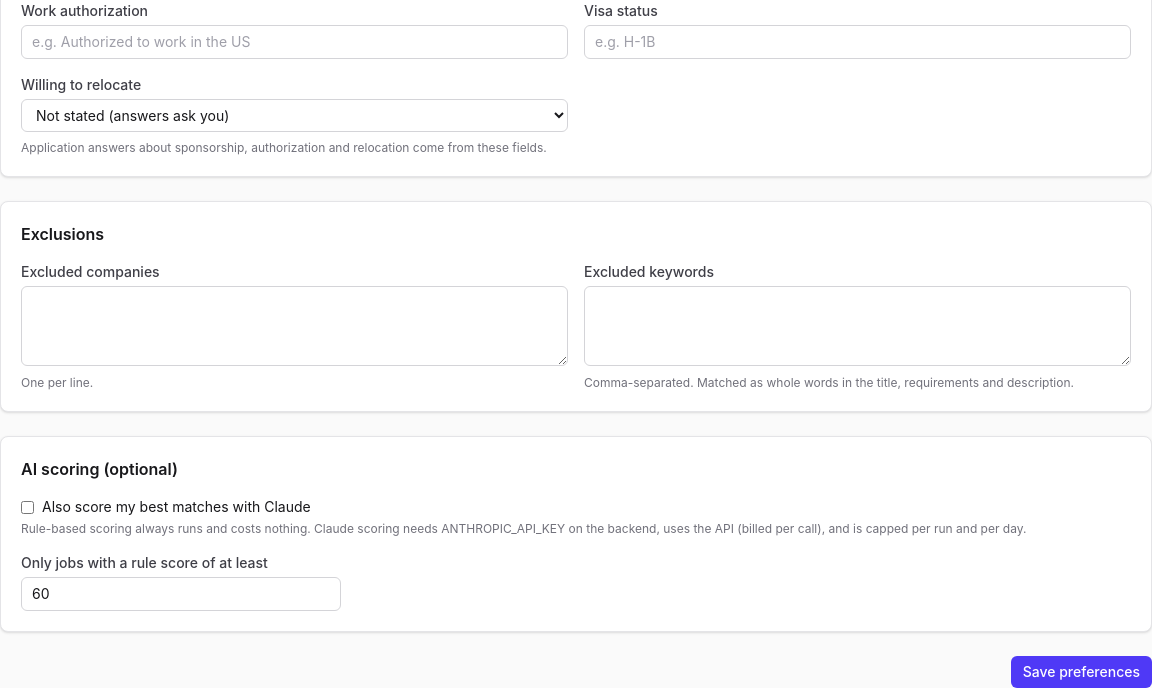
Scenario: SettingsForm › blocks a minimum above the target and reports no-op saves
(page scrolled)
Click the button "Save preferences".
click(1081, 672)  # box x1=1011 y1=656 x2=1151 y2=687
(page scrolled)
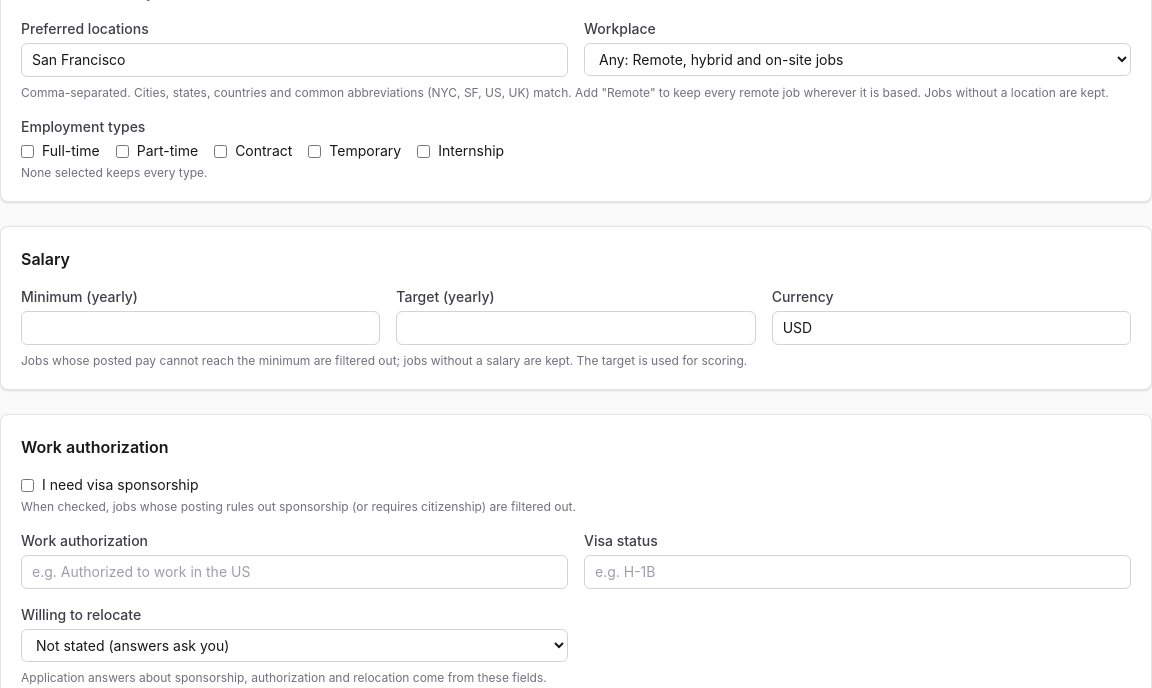
Type "200000" into the number field labelled "Minimum (yearly)".
click(201, 328); type("200000")  # box x1=21 y1=311 x2=380 y2=345
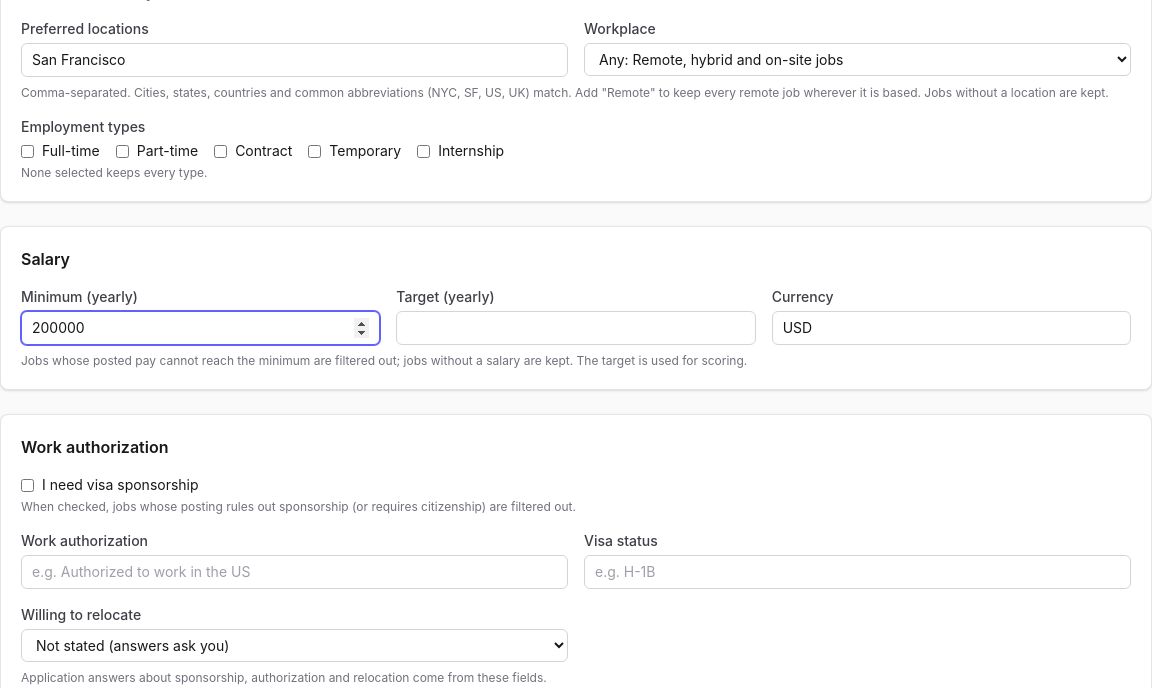
Type "150000" into the number field labelled "Target (yearly)".
click(576, 328); type("150000")  # box x1=396 y1=311 x2=756 y2=345
(page scrolled)
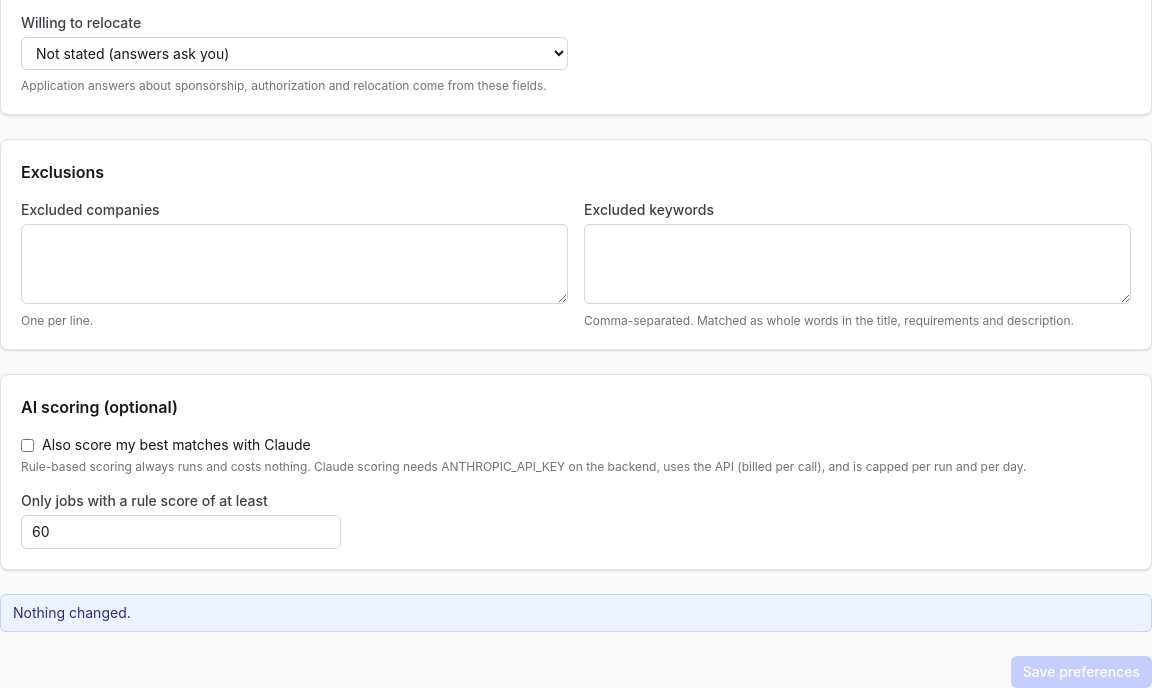
Expected: the button "Save preferences" is disabled, x1=1011 y1=656 x2=1151 y2=687
